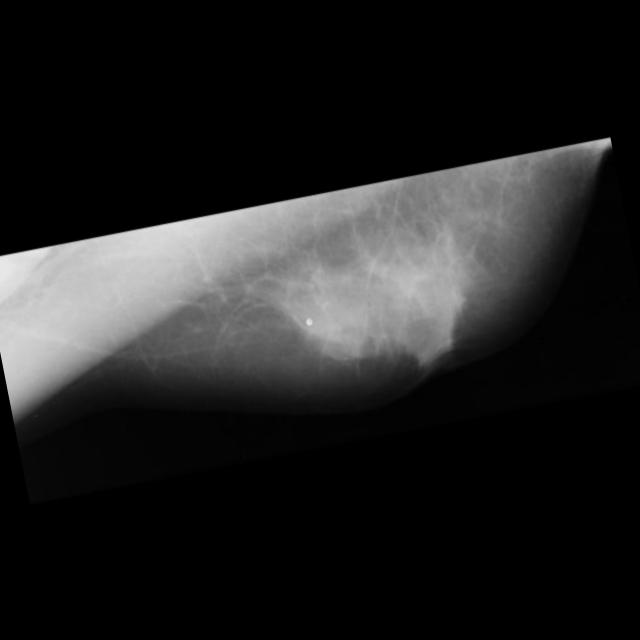CALC: (73, 404, 88, 419)
